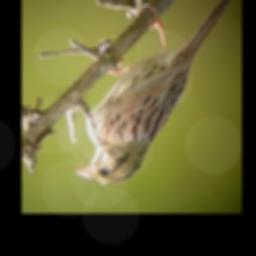Sparrow: (74, 0, 236, 189)
